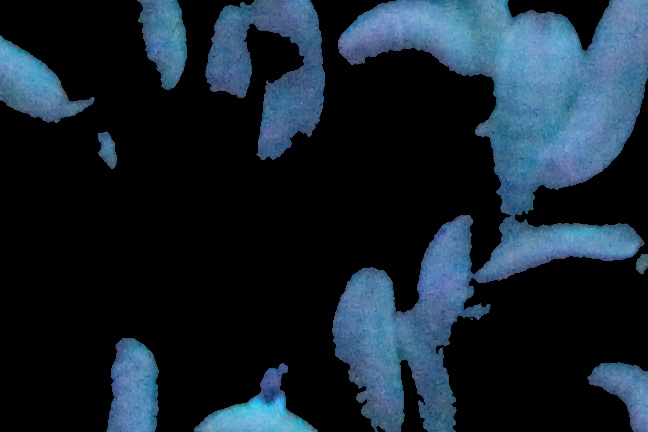larvae: (502, 5, 579, 230), (329, 1, 497, 94), (321, 265, 410, 431), (468, 209, 648, 287), (1, 1, 96, 143), (256, 1, 331, 179), (96, 1, 194, 115), (428, 1, 522, 96), (102, 324, 160, 432), (207, 1, 257, 118)
